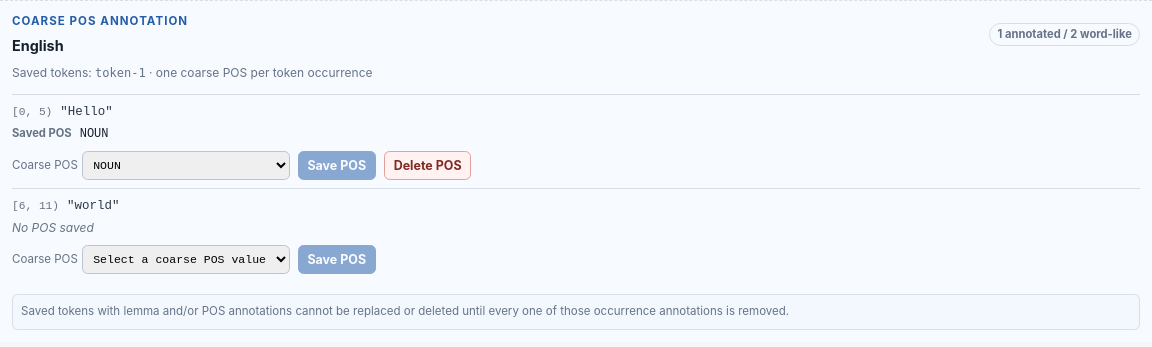
it: PosAnnotationPanel › treats re-selecting the persisted value as a logical no-op
The width and height of the screenshot is (1152, 347).
expect the button "Save POS" below "\"Hello\"" is disabled: met, box 298,151 -> 376,180
Select "VERB" in the dropdown named "Coarse POS for Hello" at {"x": 186, "y": 166}, box 82,151 -> 290,180
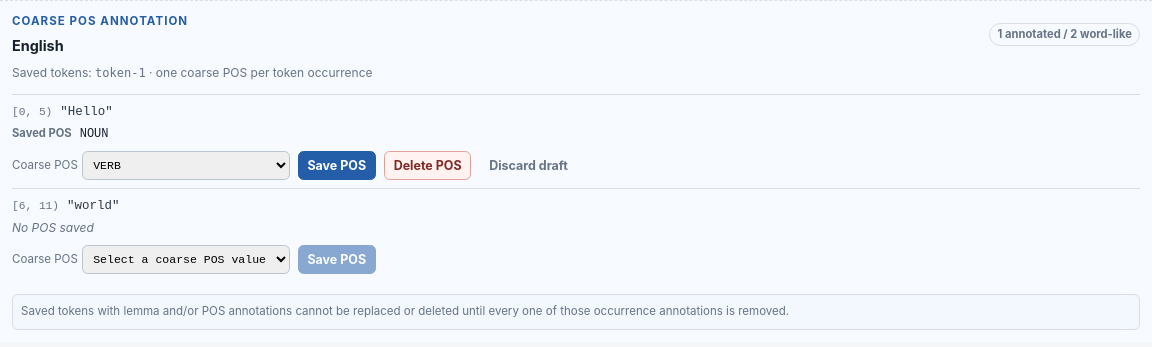
expect the button "Save POS" below "\"Hello\"" is enabled: met, box 298,151 -> 376,180
// Returning to the persisted value restores the logical no-op state.
Select "NOUN" in the dropdown named "Coarse POS for Hello" at {"x": 186, "y": 166}, box 82,151 -> 290,180
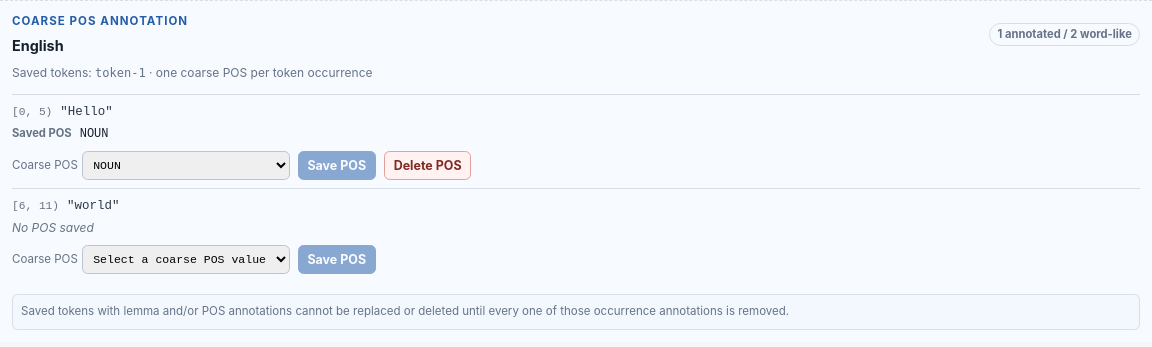
expect the button "Save POS" below "\"Hello\"" is disabled: met, box 298,151 -> 376,180
